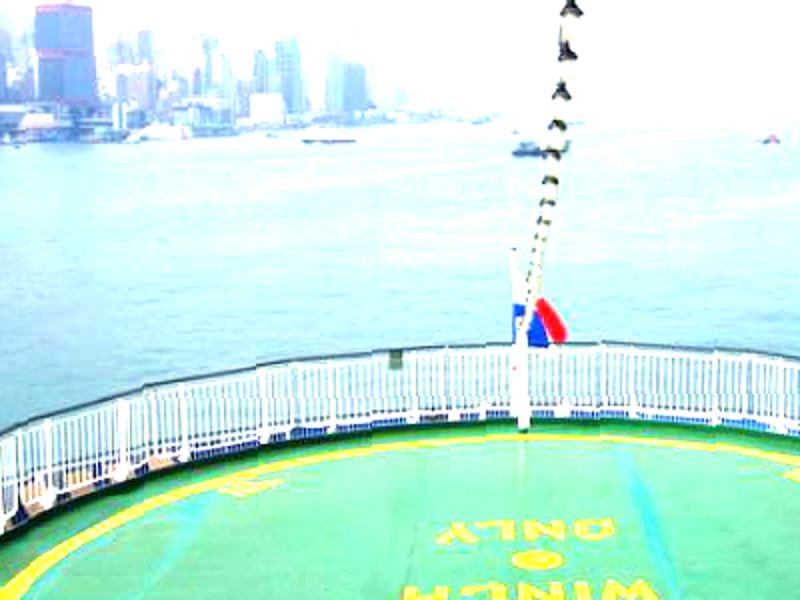Apron: (2, 433, 800, 596)
